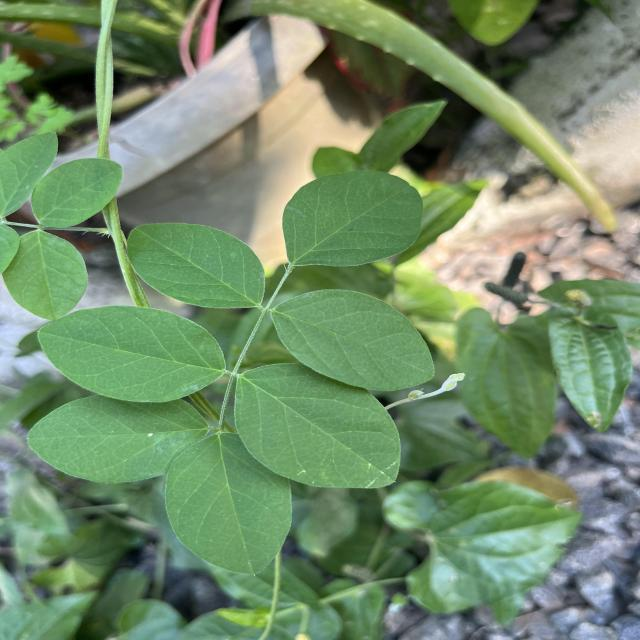Clitoria ternatea: (233, 362, 402, 489), (36, 304, 228, 404), (164, 432, 294, 576), (269, 288, 436, 392), (26, 393, 212, 485), (280, 170, 424, 268), (125, 222, 268, 310)
